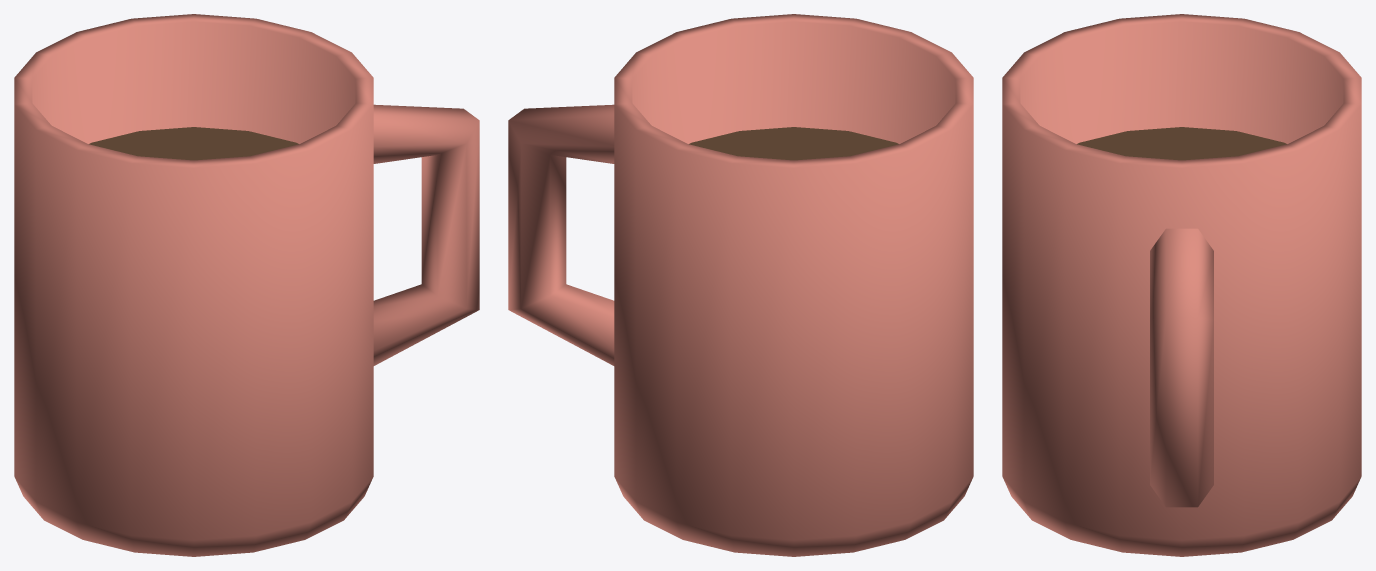
The model's file is mug.glb.
3 views of the same model, side by side, from view 1: azimuth 30°, elevation 25°; view 2: azimuth 150°, elevation 25°; view 3: azimuth 270°, elevation 25° (orthographic).
Visible parts, largest first — view 1: Mug; view 2: Mug; view 3: Mug.
Part boxes in pixels (x1,y1,x2,y2): Mug: (14,14,479,556); Mug: (508,14,973,556); Mug: (1002,14,1361,556).
Size of the model in its own units: 0.1103 by 0.095 by 0.0788.
